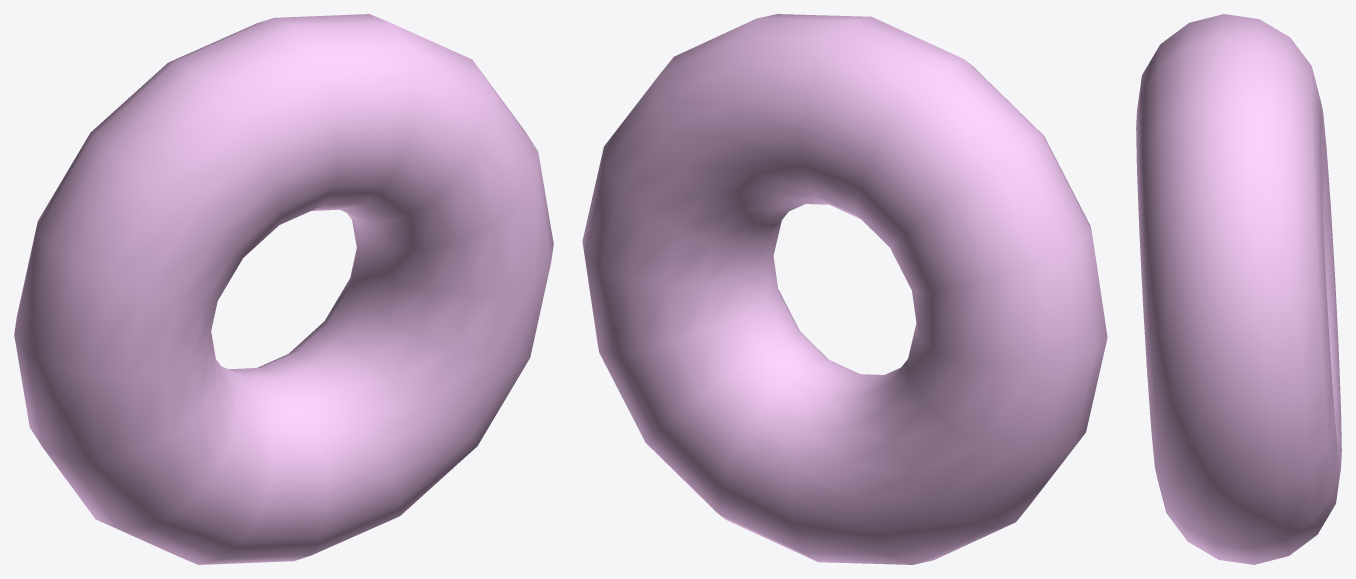
3 renders of one model, left to right at view 1: azimuth 30°, elevation 25°; view 2: azimuth 150°, elevation 25°; view 3: azimuth 270°, elevation 25°, orthographic. The views are drawn at different scales.
Visible parts, largest first — view 1: torus23; view 2: torus23; view 3: torus23.
Part boxes in pixels (x1=…): torus23: x1=14, y1=14, x2=553, y2=564; torus23: x1=582, y1=14, x2=1107, y2=564; torus23: x1=1136, y1=14, x2=1341, y2=564.
Size of the model in its own units: 4.99 by 4.98 by 1.86.
